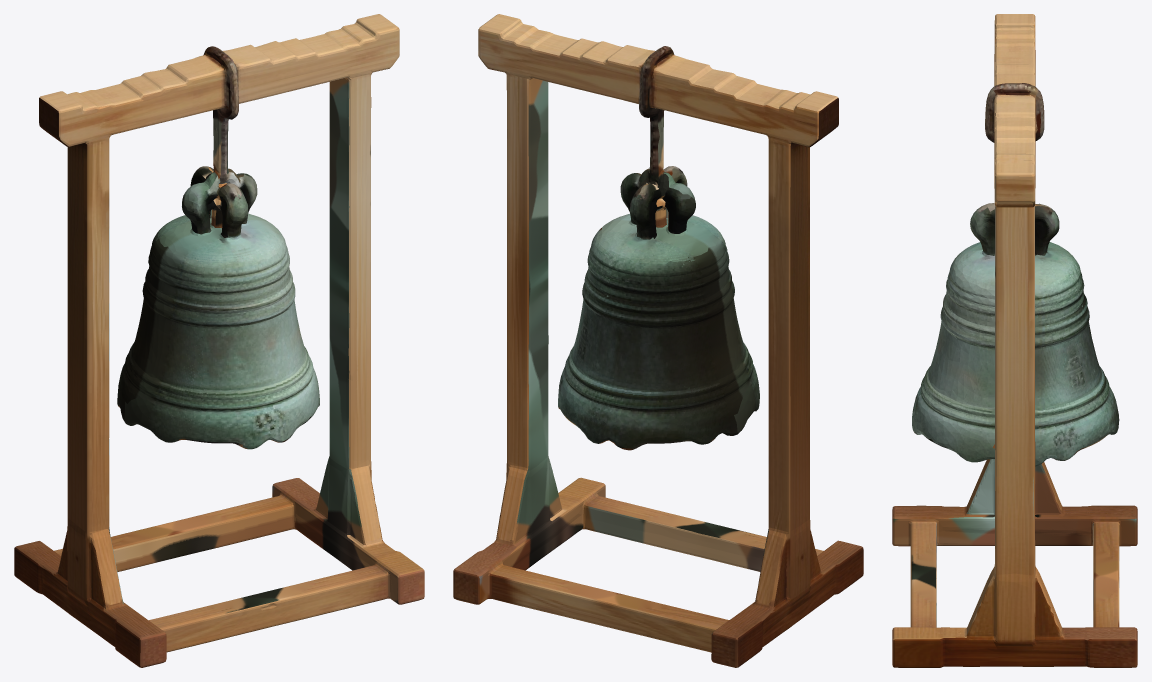
The model's file is traveler_env_coast_ojatara_yotomo_bell_00001_.glb.
3 views of the same model, side by side, from view 1: azimuth 30°, elevation 25°; view 2: azimuth 150°, elevation 25°; view 3: azimuth 270°, elevation 25° (orthographic). The views are drawn at different scales.
Visible parts, largest first — view 1: temp_mesh.ply; view 2: temp_mesh.ply; view 3: temp_mesh.ply.
Part boxes in pixels (x1,y1,x2,y2): temp_mesh.ply: (14,14,424,667); temp_mesh.ply: (453,14,863,667); temp_mesh.ply: (892,14,1137,667).
Bounding box in the file's own units: 1.32 × 1.97 × 0.8473.
1 material, 1 textured.
